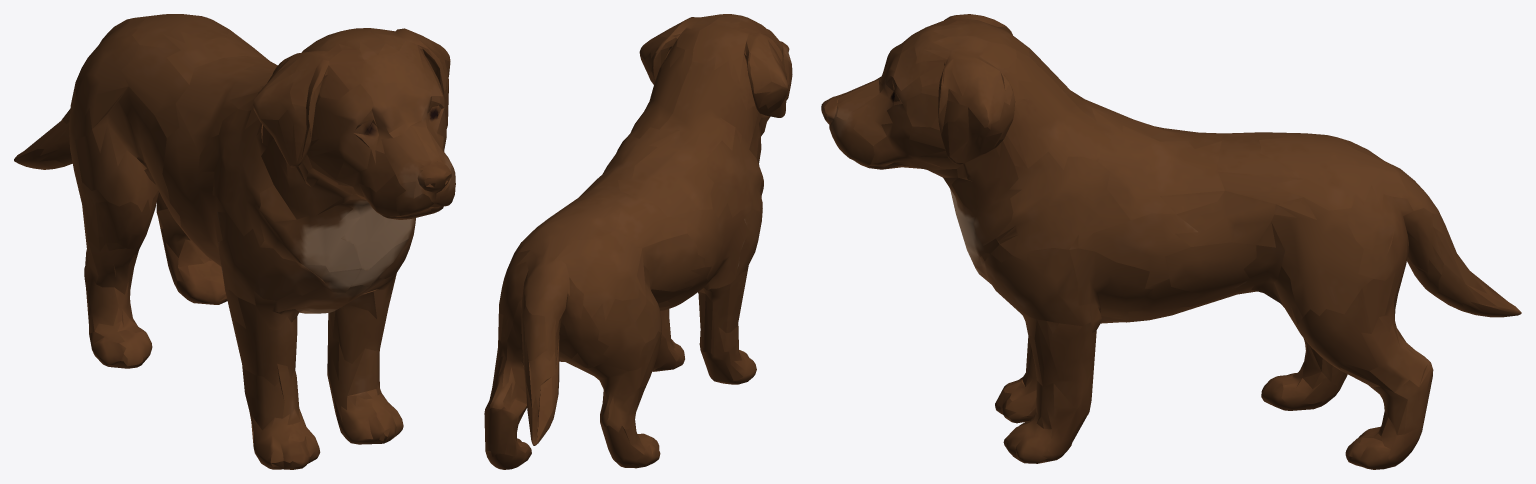
The model's file is dog.glb.
The picture shows the model from 3 angles, left to right: view 1: azimuth 30°, elevation 25°; view 2: azimuth 150°, elevation 25°; view 3: azimuth 270°, elevation 25°; orthographic projection. The views are drawn at different scales.
Bounding box in the file's own units: 0.5668 × 1.21 × 1.9.
1 material, 1 textured.
